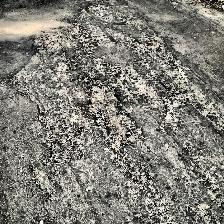pothole: (85, 82, 144, 146)
